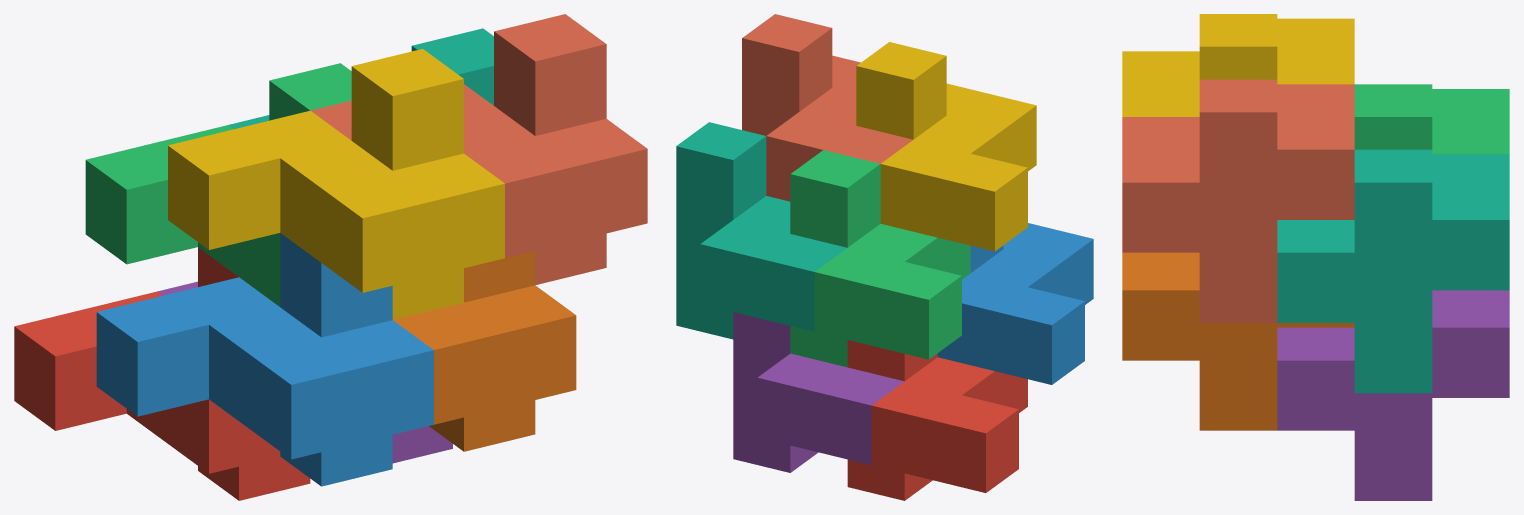
Rendered from tiling.obj.
The picture shows the model from 3 angles, left to right: view 1: azimuth 30°, elevation 25°; view 2: azimuth 150°, elevation 25°; view 3: azimuth 270°, elevation 25°; orthographic projection. The views are drawn at different scales.
Parts seen in each view (by area): view 1: copy_1_domain_4, copy_1_domain_2, copy_1_domain_8, copy_1_domain_6, copy_1_domain_1, copy_1_domain_3, copy_1_domain_7, copy_1_domain_5; view 2: copy_1_domain_4, copy_1_domain_3, copy_1_domain_7, copy_1_domain_1, copy_1_domain_2, copy_1_domain_5, copy_1_domain_8; view 3: copy_1_domain_8, copy_1_domain_7, copy_1_domain_5, copy_1_domain_6, copy_1_domain_4, copy_1_domain_3.
Part boxes in pixels (x1,y1,x2,y2): copy_1_domain_4: [168, 49, 504, 319]; copy_1_domain_2: [96, 233, 433, 486]; copy_1_domain_8: [311, 14, 647, 284]; copy_1_domain_6: [393, 251, 576, 451]; copy_1_domain_1: [14, 247, 310, 500]; copy_1_domain_3: [85, 63, 351, 306]; copy_1_domain_7: [228, 28, 493, 129]; copy_1_domain_5: [157, 281, 452, 463]; copy_1_domain_4: [856, 42, 1036, 251]; copy_1_domain_3: [790, 150, 970, 367]; copy_1_domain_7: [676, 122, 846, 339]; copy_1_domain_1: [847, 340, 1027, 500]; copy_1_domain_2: [937, 223, 1093, 384]; copy_1_domain_5: [733, 312, 904, 472]; copy_1_domain_8: [742, 14, 912, 201]; copy_1_domain_8: [1122, 79, 1354, 322]; copy_1_domain_7: [1277, 149, 1509, 393]; copy_1_domain_5: [1277, 290, 1509, 500]; copy_1_domain_6: [1122, 252, 1354, 430]; copy_1_domain_4: [1122, 14, 1354, 116]; copy_1_domain_3: [1354, 84, 1509, 154].
Bounding box in the file's own units: 6 × 6 × 5.
